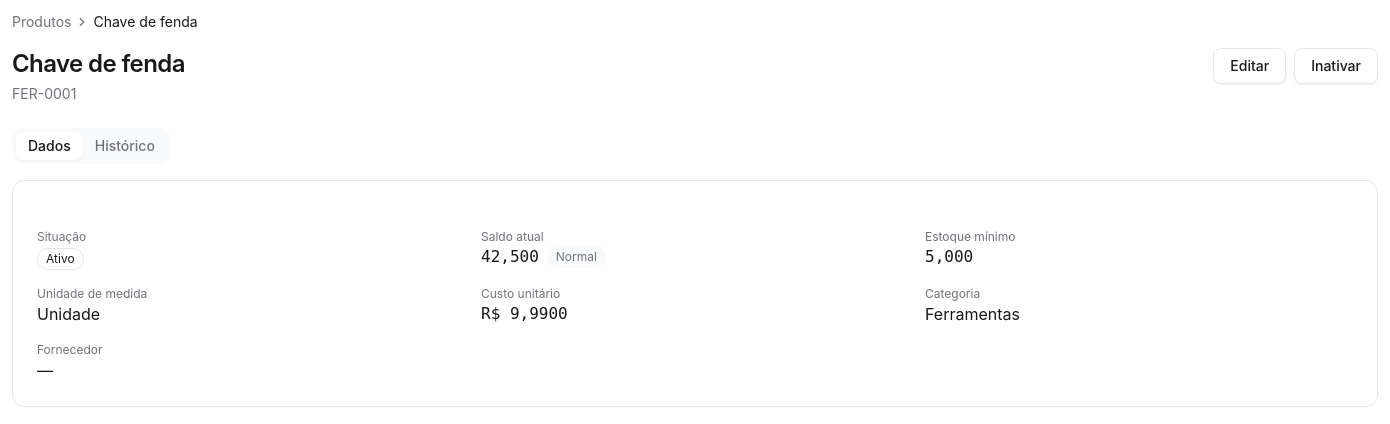
ProductDetailPage › aba Histórico mostra as movimentações reais do produto
The image size is (1390, 424).
Expected: the text "42,500" is shown, [481, 245, 539, 269]
Click the tab "Histórico" at coordinates (125, 146), box [83, 132, 167, 160]
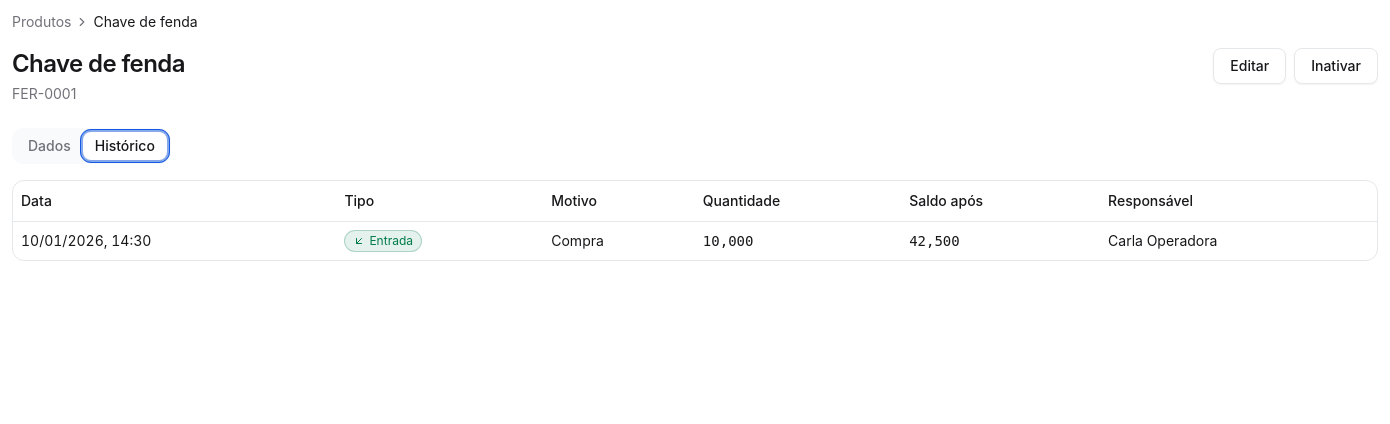
Now the text "Entrada" is shown, box [344, 230, 422, 252]
Now the text "Compra" is shown, box [543, 222, 695, 260]
Now the text "Carla Operadora" is shown, box [1100, 222, 1377, 260]
